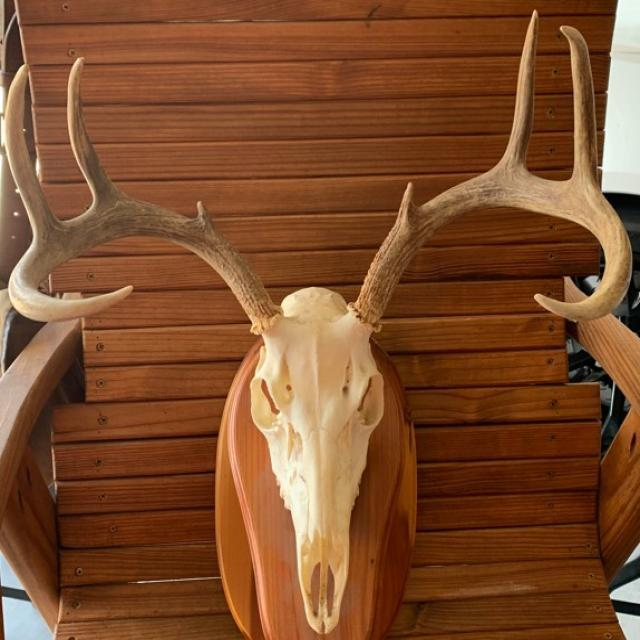L-F: (348, 162, 633, 333)
L-G1: (397, 182, 420, 221)
L-G2: (501, 9, 539, 167)
L-G3: (559, 25, 598, 186)
R-F: (8, 190, 284, 336)
R-G1: (194, 200, 217, 230)
R-G2: (66, 56, 119, 200)
R-G3: (4, 64, 61, 240)
